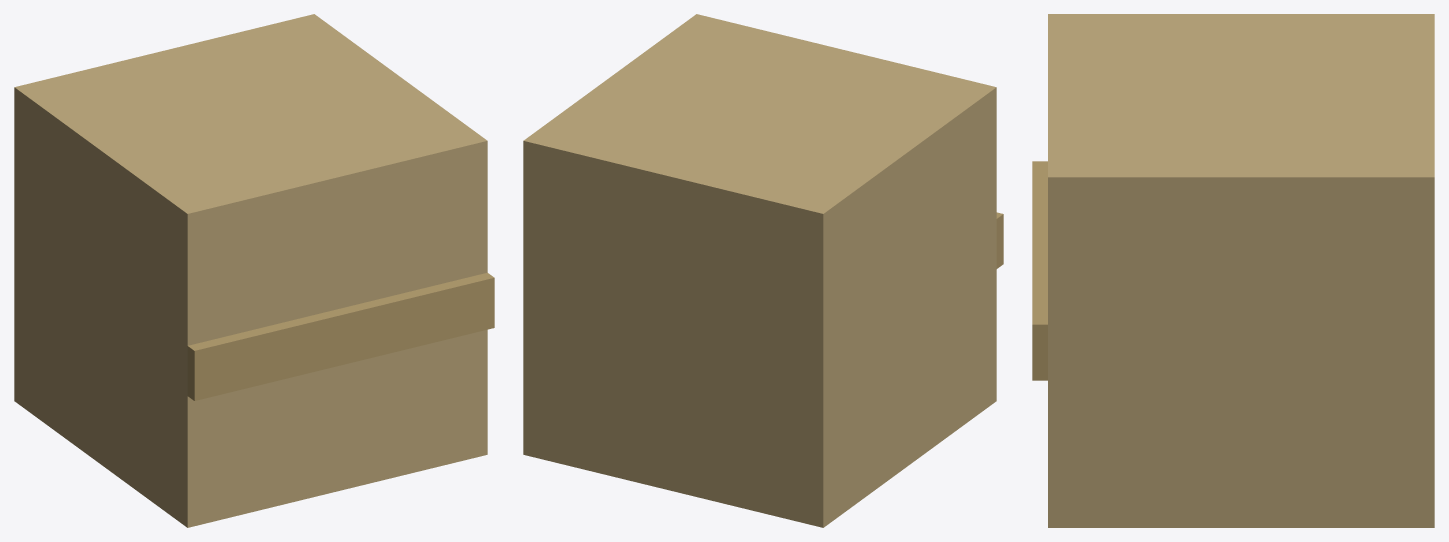
The model's file is env-med-crate.glb.
The picture shows the model from 3 angles, left to right: view 1: azimuth 30°, elevation 25°; view 2: azimuth 150°, elevation 25°; view 3: azimuth 270°, elevation 25°; orthographic projection. The views are drawn at different scales.
Size of the model in its own units: 0.5 by 0.5 by 0.52.
